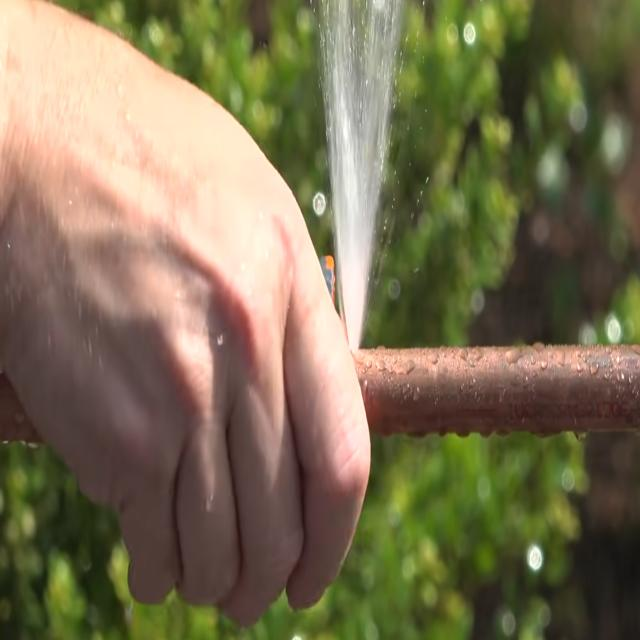leak: (320, 0, 401, 351)
